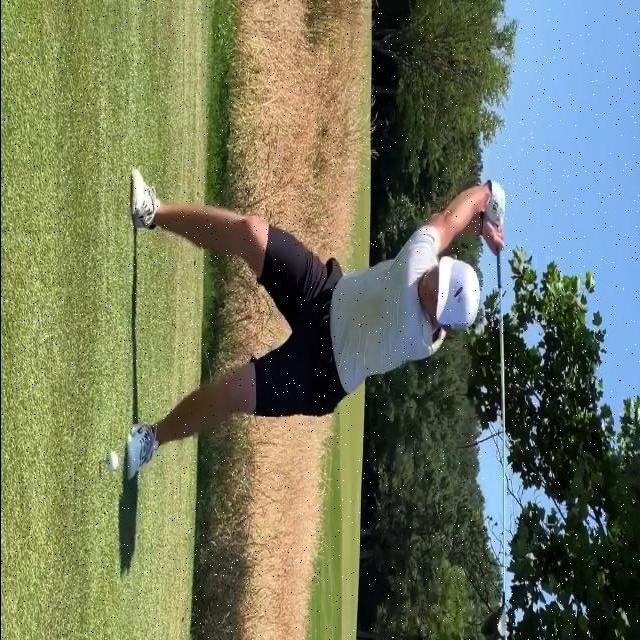golf ball: (105, 449, 119, 472)
golf club-handle: (475, 238, 509, 640)
golf club-head: (479, 607, 507, 639)
